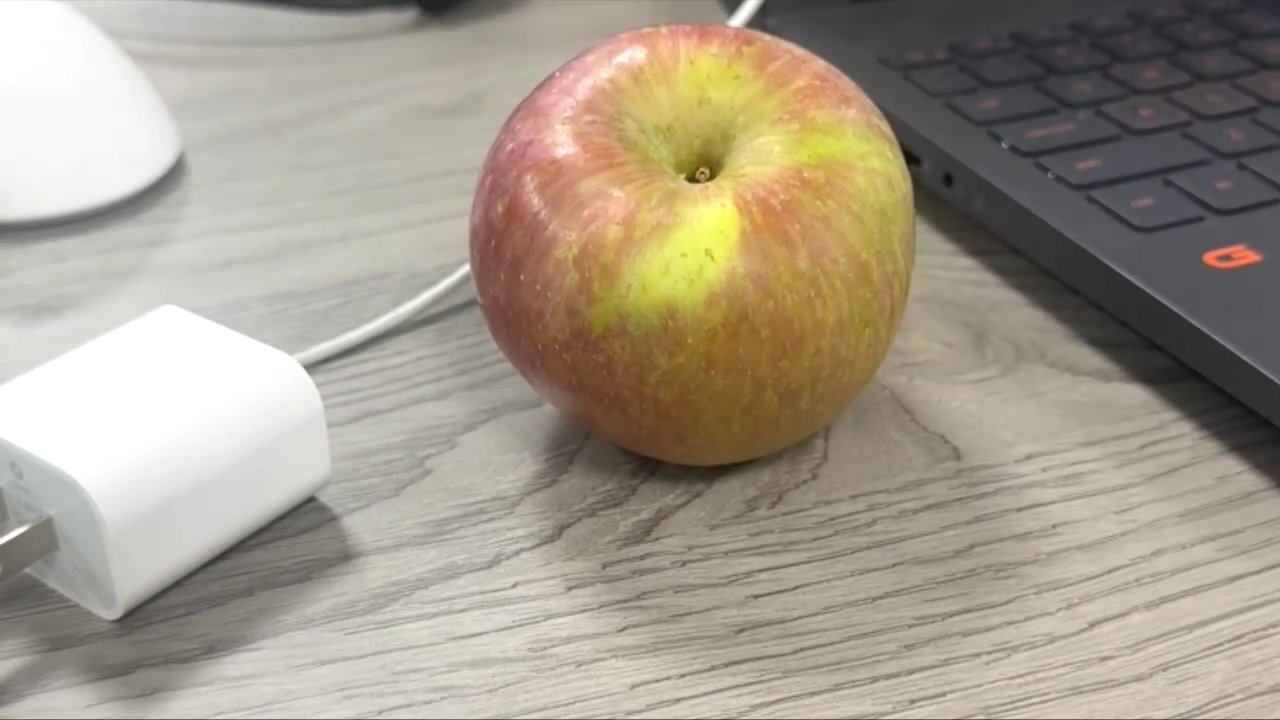apple_rotten: (462, 18, 948, 477)
